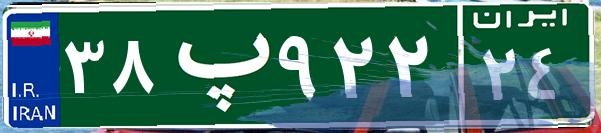2: (385, 28, 445, 110), (330, 28, 385, 110), (475, 38, 525, 113)
3: (57, 26, 110, 107)
4: (525, 38, 570, 115)
8: (110, 28, 158, 105)
9: (273, 28, 330, 110)
پ: (158, 15, 273, 115)
